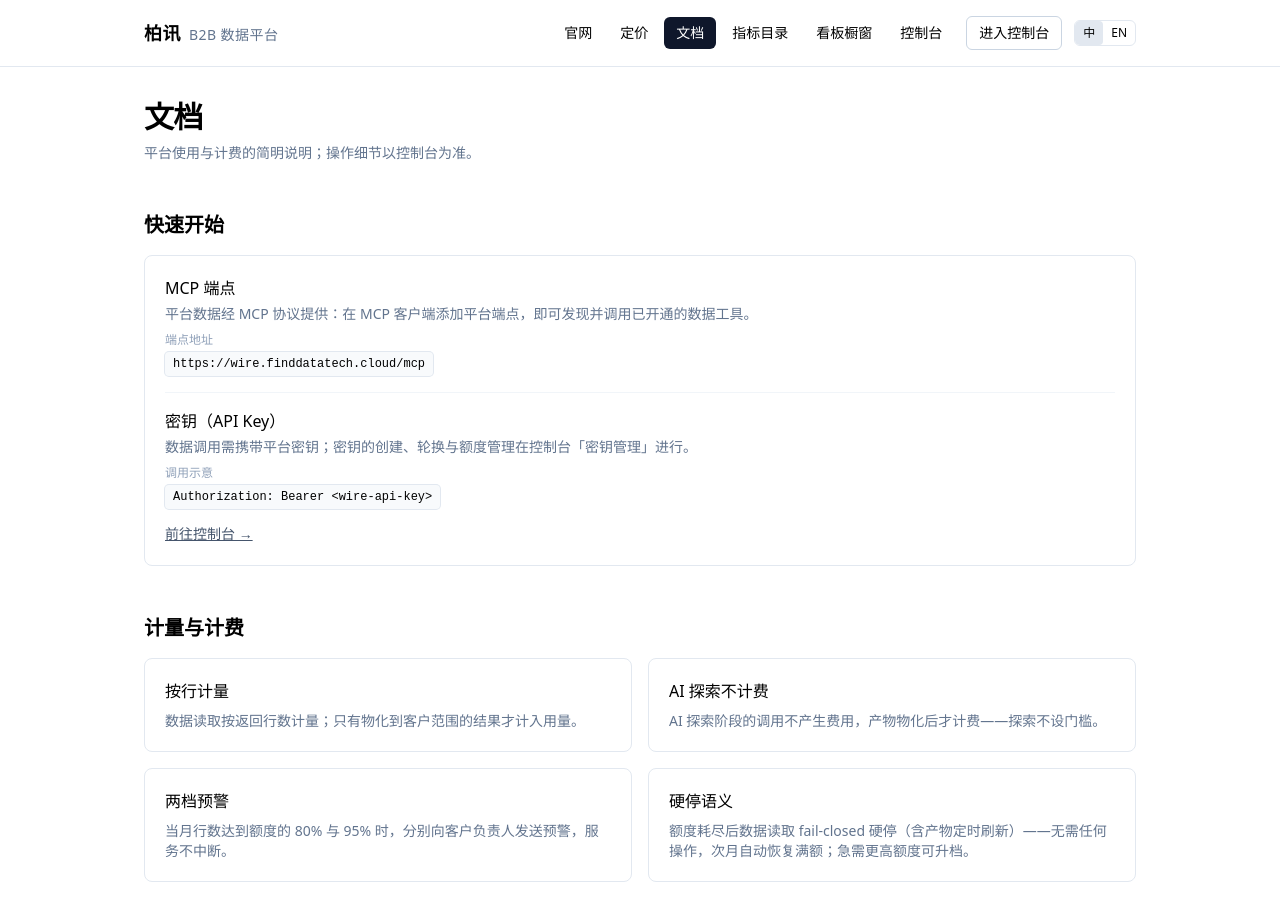
it: ConsoleView（管理员控制台可达性） › 管理员经文档页「前往控制台」入口直达控制台：不被改跳后台，门户导航在场
Expected: the text "https://wire.finddatatech.cloud/mcp" is shown, [165,352,433,376]
Click the link with test id "docs-quick-start-console-link" at (209, 534), box [165,524,253,543]
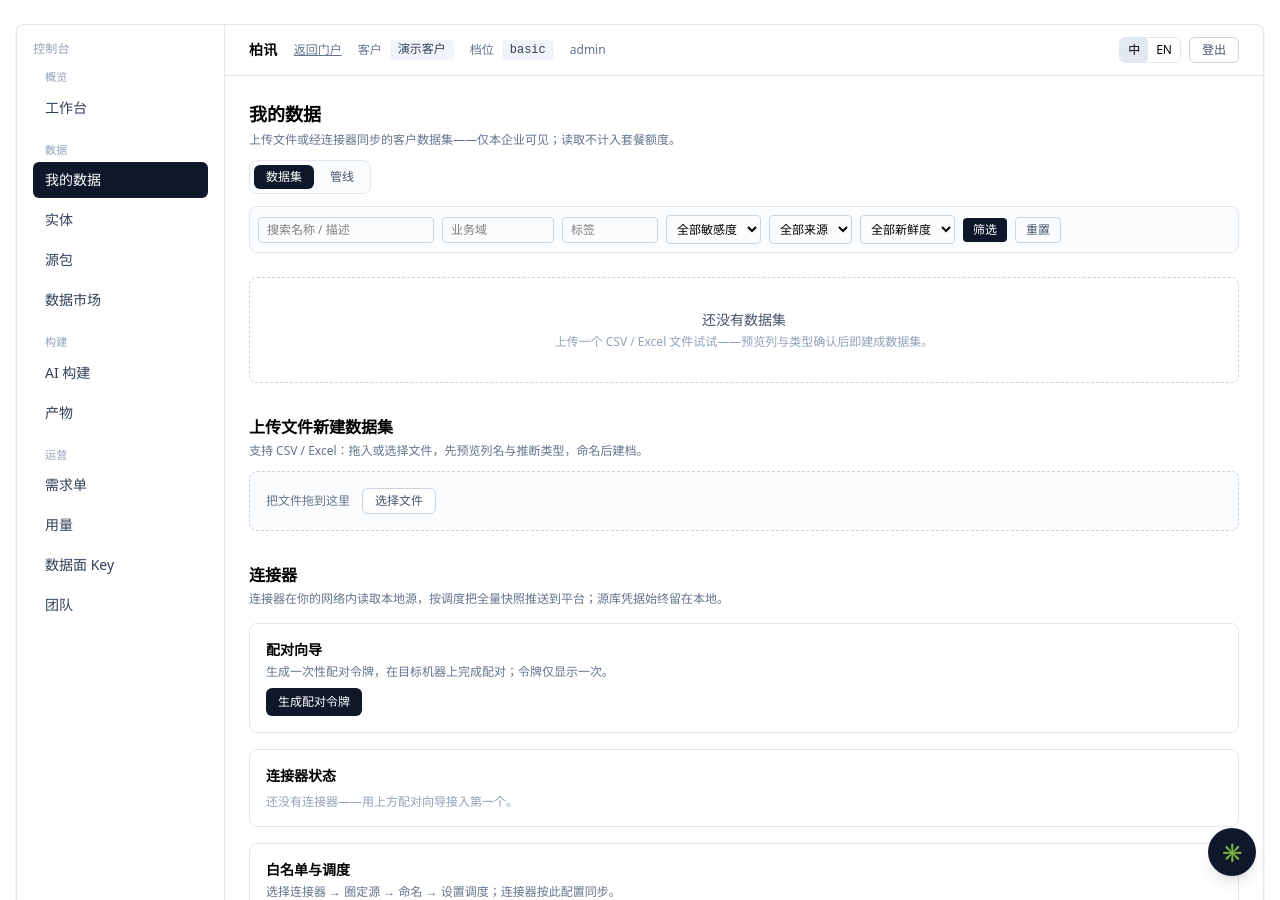
Result: the element with test id "console-topbar" is shown at [225,25,1263,76]
Result: the link to "#/console" is gone
